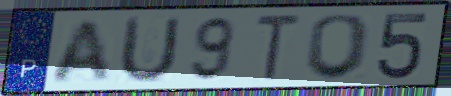5: (373, 10, 431, 81)
9: (188, 14, 239, 83)
A: (48, 18, 113, 85)
O: (301, 12, 375, 81)
T: (253, 13, 304, 83)
U: (113, 14, 183, 86)
